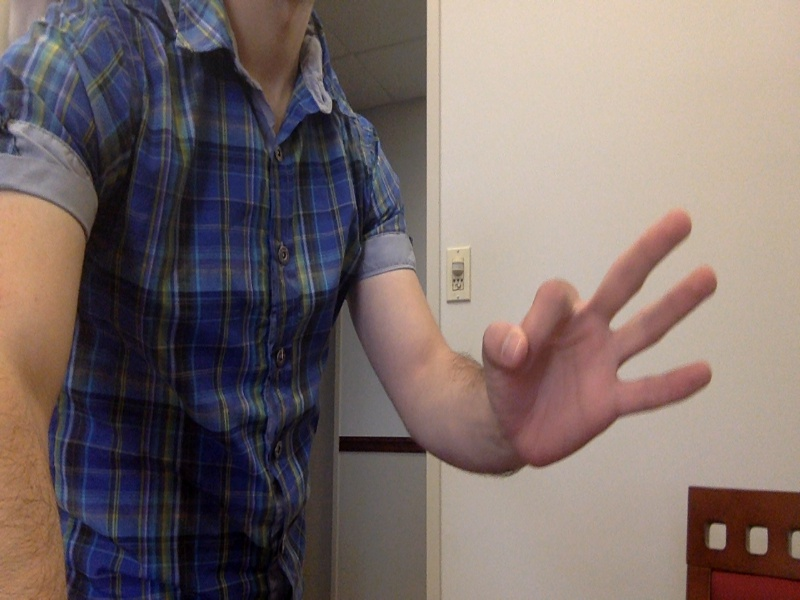3-hand: (482, 210, 720, 474)
